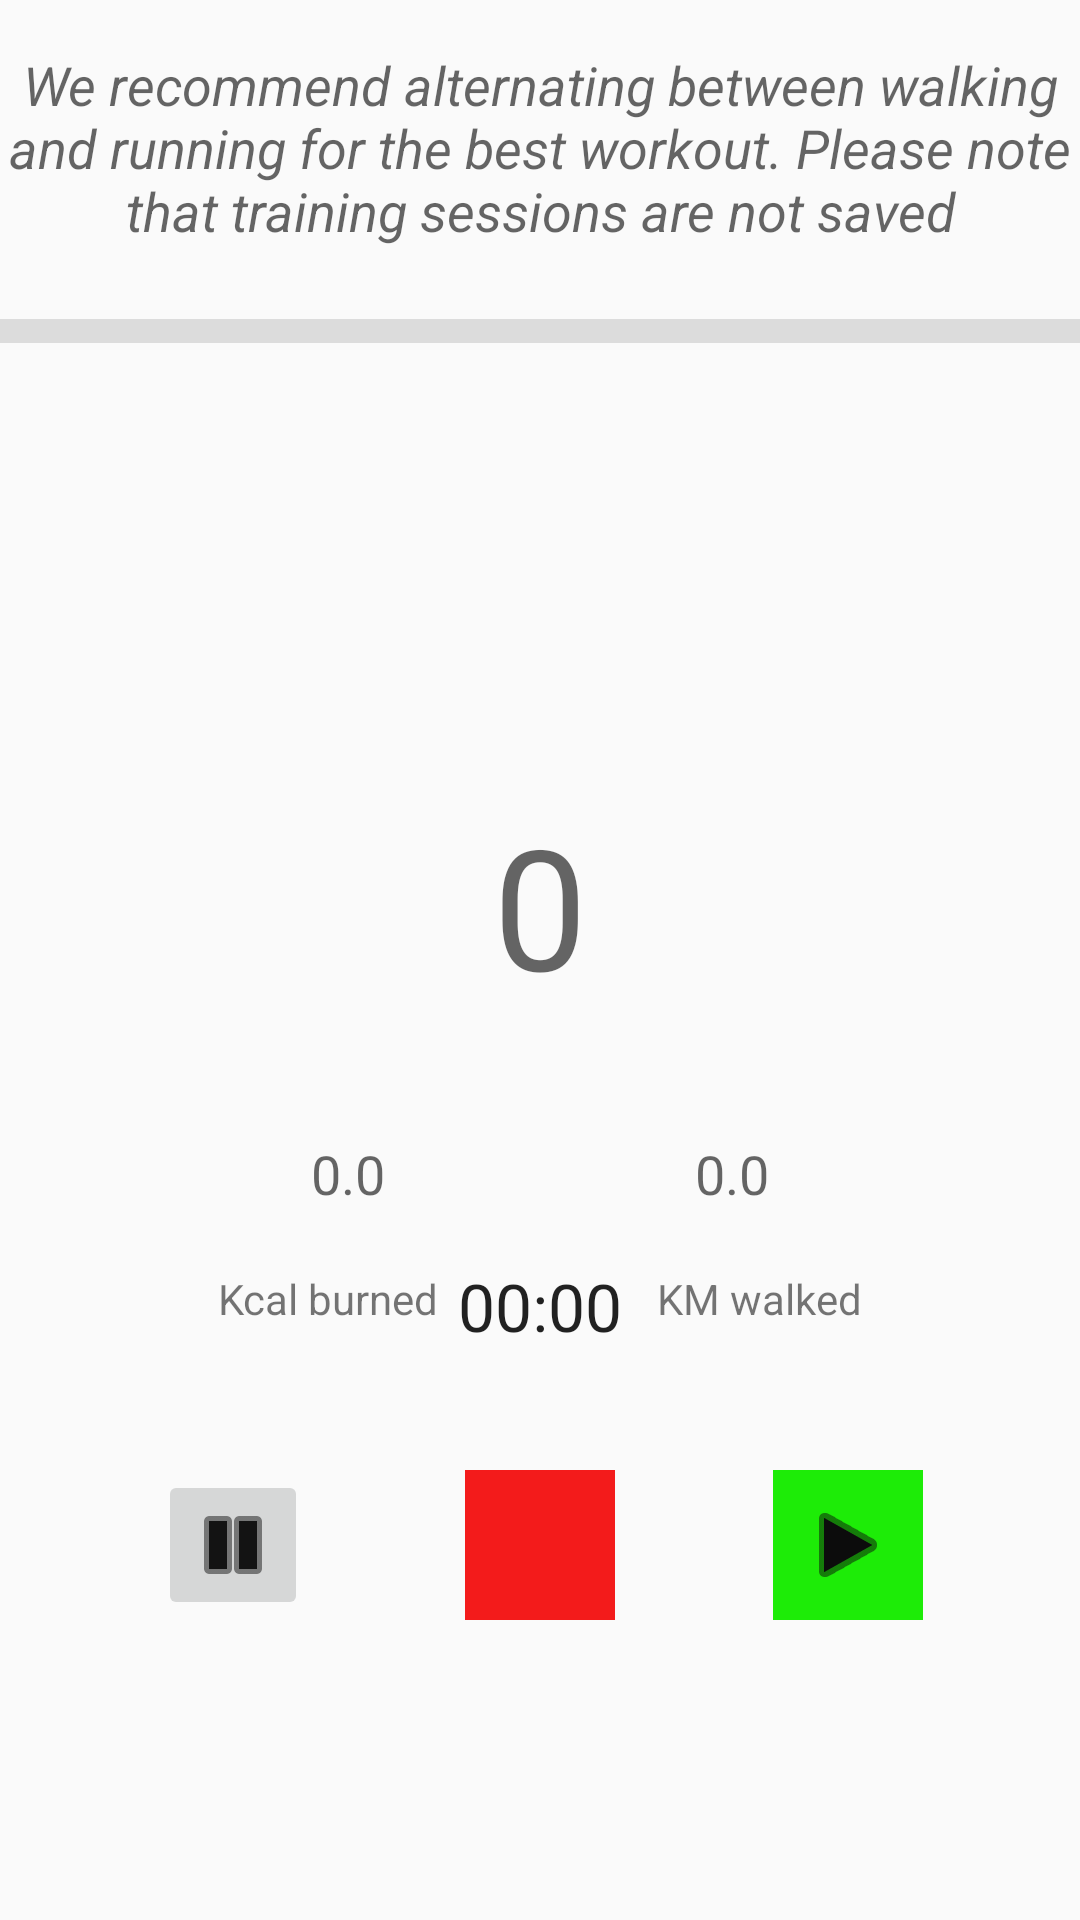

Icon bounding boxes for this 1080x1920 phone screenshot, format box=[x1, y1, x2, y2]:
pause: box=[170, 1488, 296, 1602]
play: box=[773, 1470, 923, 1620]
